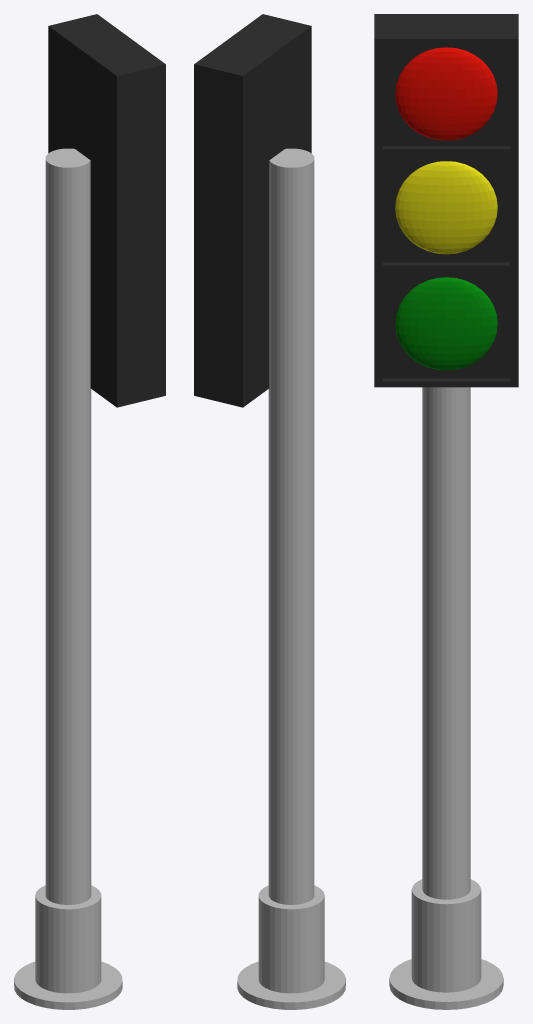
Rendered from Traffic_Light.fbx.
3 renders of one model, left to right at view 1: azimuth 30°, elevation 25°; view 2: azimuth 150°, elevation 25°; view 3: azimuth 270°, elevation 25°, orthographic. The views are drawn at different scales.
Visible parts, largest first — view 1: Sphere.001; view 2: Sphere.001; view 3: Sphere.001.
Part boxes in pixels (x1,y1,x2,y2): Sphere.001: (14, 14, 165, 1009); Sphere.001: (194, 14, 345, 1009); Sphere.001: (374, 14, 518, 1009).
Bounding box in the file's own units: 56.88 × 450 × 60.
